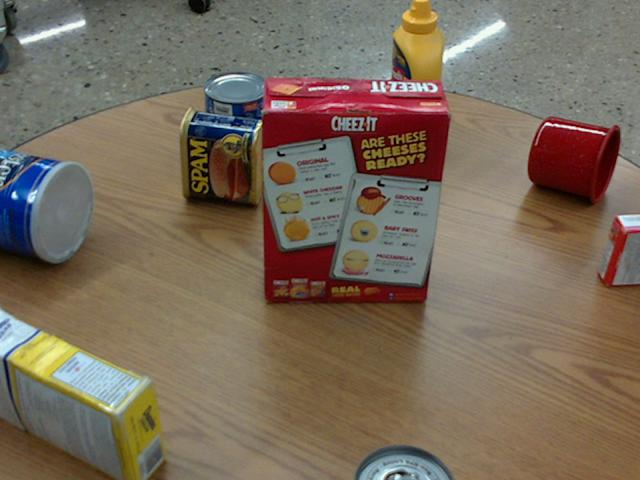cracker_box: (260, 77, 452, 300)
gelatin_box: (600, 217, 639, 288)
master_chef_can: (0, 147, 95, 261)
mug: (528, 116, 619, 203)
mustard_bottle: (386, 0, 443, 160)
potted_meat_can: (180, 105, 265, 202)
sugar_box: (0, 307, 165, 479)
tomato_soup_can: (355, 444, 456, 479)
tuna_fish_can: (205, 69, 270, 123)
